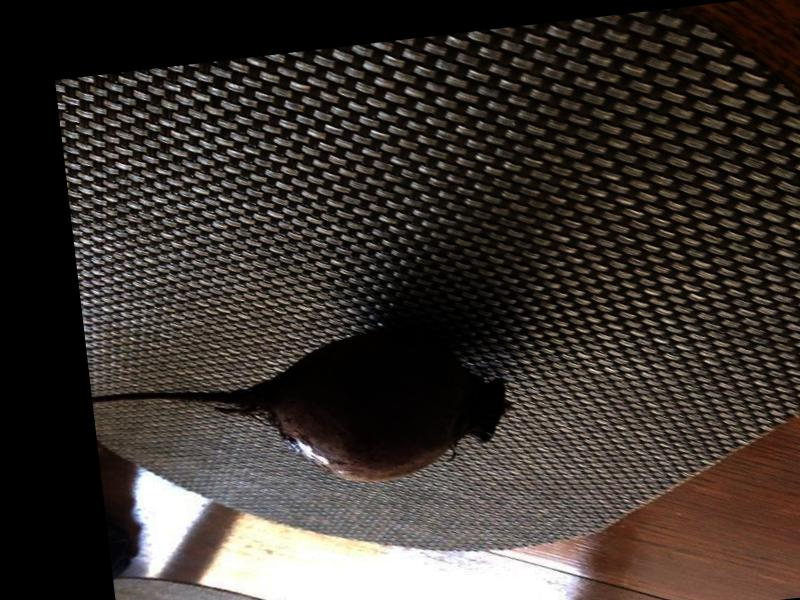Beet: (92, 319, 514, 511)
